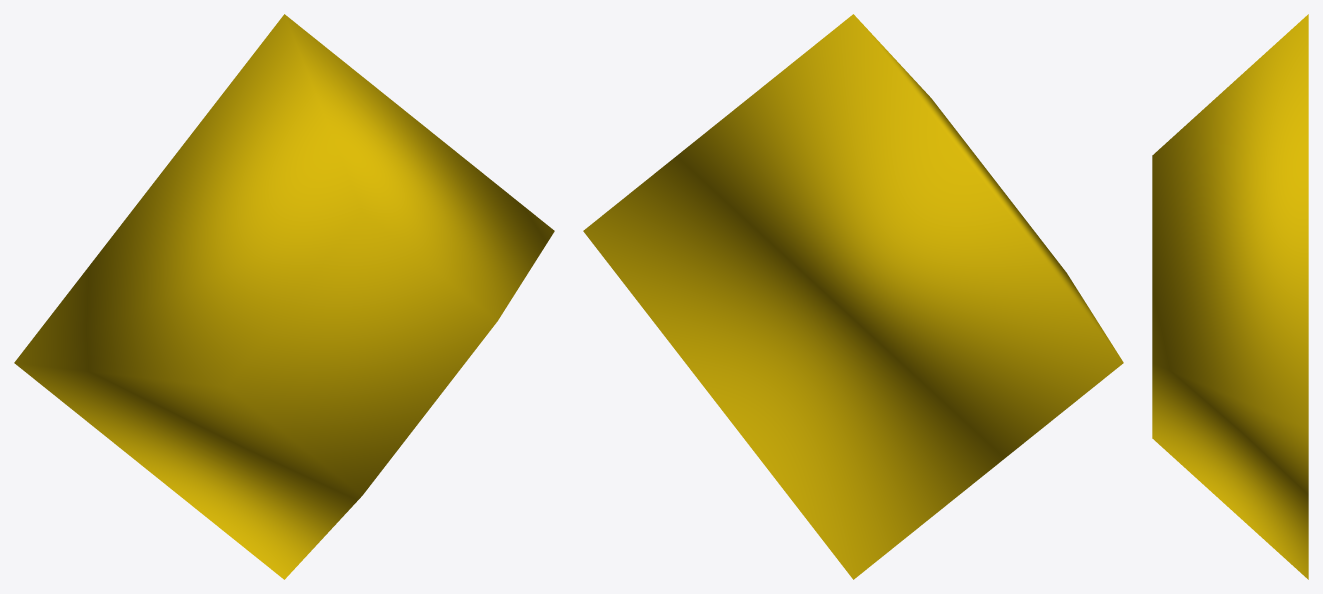
File: MrT_Parts_Badge.fbx
The picture shows the model from 3 angles, left to right: view 1: azimuth 30°, elevation 25°; view 2: azimuth 150°, elevation 25°; view 3: azimuth 270°, elevation 25°; orthographic projection.
Parts seen in each view (by area): view 1: officertoots_body_mc_002; view 2: officertoots_body_mc_002; view 3: officertoots_body_mc_002.
Part boxes in pixels (x1=…): officertoots_body_mc_002: x1=14, y1=14, x2=554, y2=579; officertoots_body_mc_002: x1=583, y1=14, x2=1123, y2=579; officertoots_body_mc_002: x1=1152, y1=14, x2=1308, y2=579.
Size of the model in its own units: 4 by 4 by 1.
